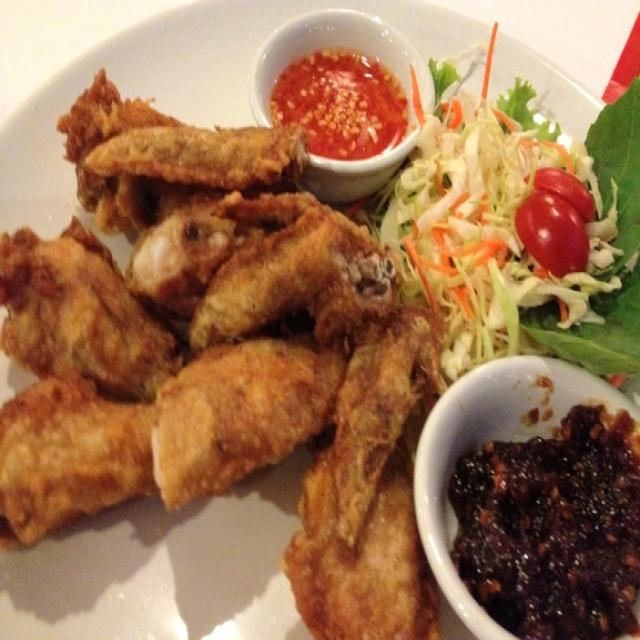鸡肉料理 含炸鸡: (15, 15, 608, 621)
